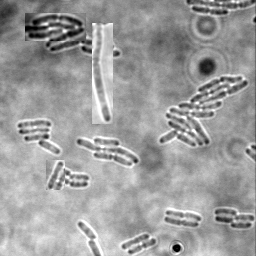Dividing: (92, 23, 113, 124), (128, 238, 157, 255), (166, 209, 202, 222), (164, 217, 200, 228), (192, 7, 229, 17), (66, 175, 89, 189)
Microcolony: (158, 76, 249, 147), (76, 137, 139, 168), (45, 32, 121, 57), (25, 13, 86, 41), (18, 120, 61, 155), (214, 208, 255, 229)
Rod: (46, 160, 65, 190), (121, 233, 150, 251), (78, 222, 99, 240), (69, 174, 90, 183)
